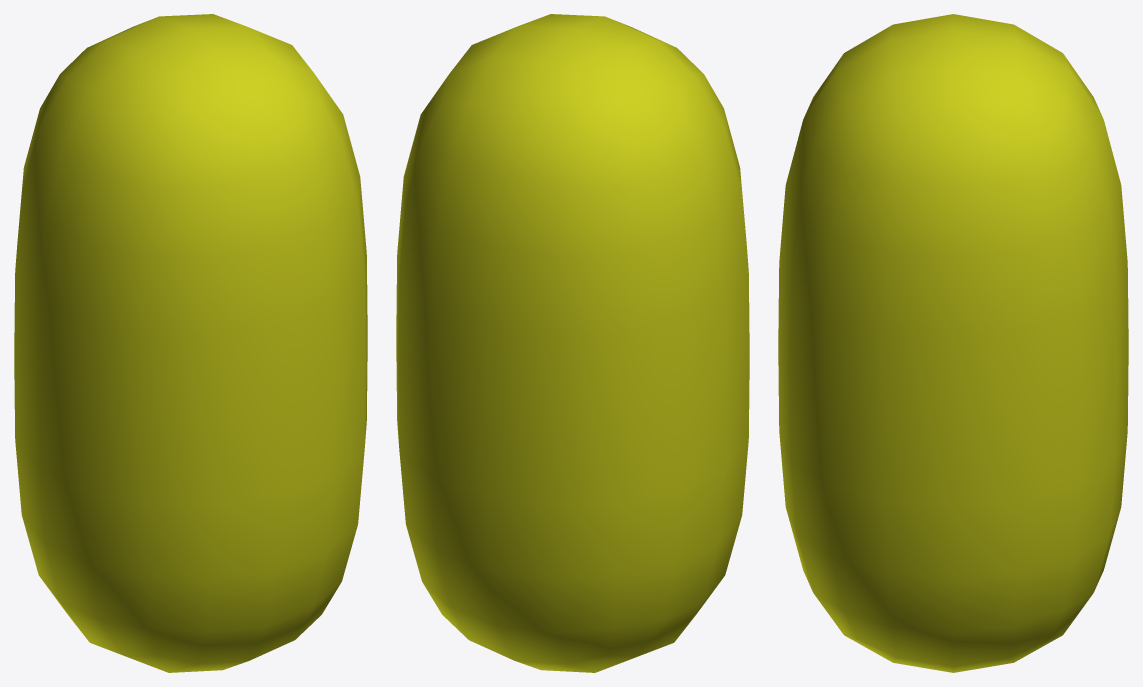
The picture shows the model from 3 angles, left to right: view 1: azimuth 30°, elevation 25°; view 2: azimuth 150°, elevation 25°; view 3: azimuth 270°, elevation 25°; orthographic projection.
Parts seen in each view (by area): view 1: Cube.1407; view 2: Cube.1407; view 3: Cube.1407.
Part boxes in pixels (bbox=[...]): Cube.1407: bbox=[14, 14, 367, 672]; Cube.1407: bbox=[396, 14, 749, 672]; Cube.1407: bbox=[778, 14, 1128, 672].
Bounding box in the file's own units: 0.2612 × 0.5138 × 0.2612.
